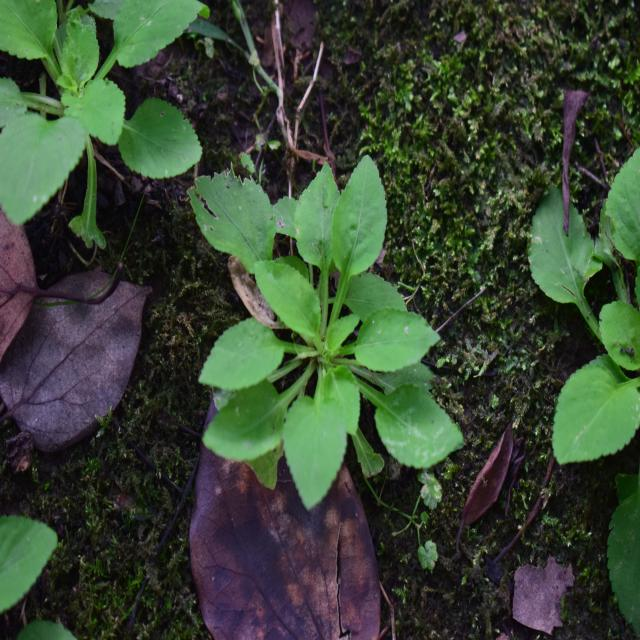Viola: (204, 174, 441, 491)
